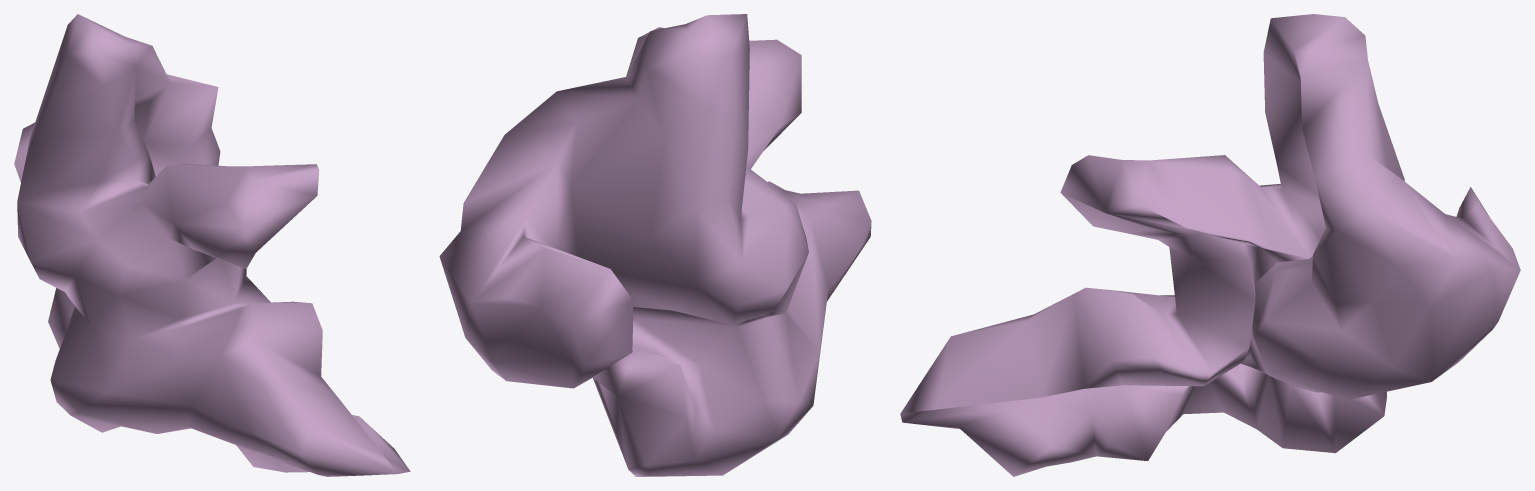
The picture shows the model from 3 angles, left to right: view 1: azimuth 30°, elevation 25°; view 2: azimuth 150°, elevation 25°; view 3: azimuth 270°, elevation 25°; orthographic projection. The views are drawn at different scales.
Parts seen in each view (by area): view 1: 右侧顶下沟; view 2: 右侧顶下沟; view 3: 右侧顶下沟.
Part boxes in pixels (x1=…): 右侧顶下沟: x1=14, y1=14, x2=410, y2=476; 右侧顶下沟: x1=439, y1=14, x2=871, y2=476; 右侧顶下沟: x1=900, y1=14, x2=1520, y2=476.
Size of the model in its own units: 0.0222 by 0.0391 by 0.0528.
